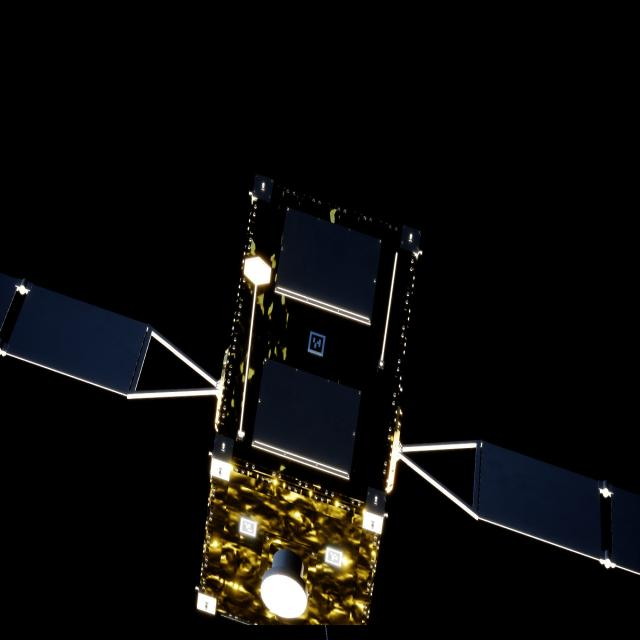satellite: (0, 173, 640, 627)
